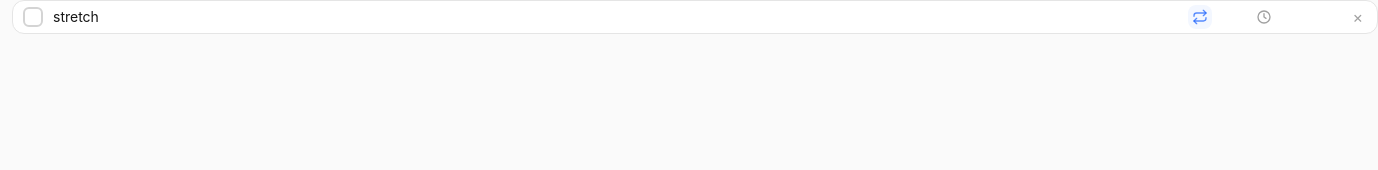
Test: the repeat rule on a task row › stops spelling it out on Escape, with the focus still on the page after a click on the row (UI-17)
The width and height of the screenshot is (1378, 170).
Click the list item at (695, 17), box x1=12 y1=0 x2=1377 y2=34
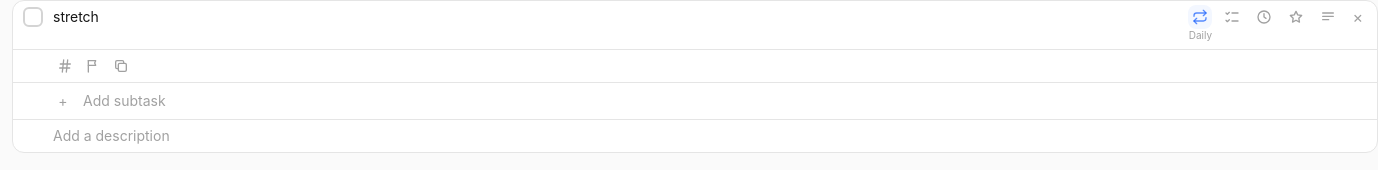
Press Escape
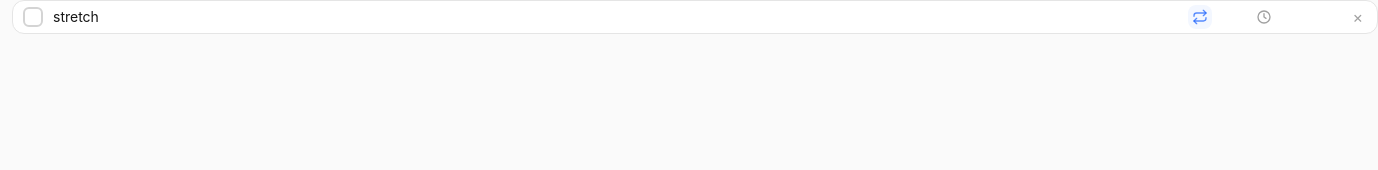
expect the text "Daily" is gone: met
